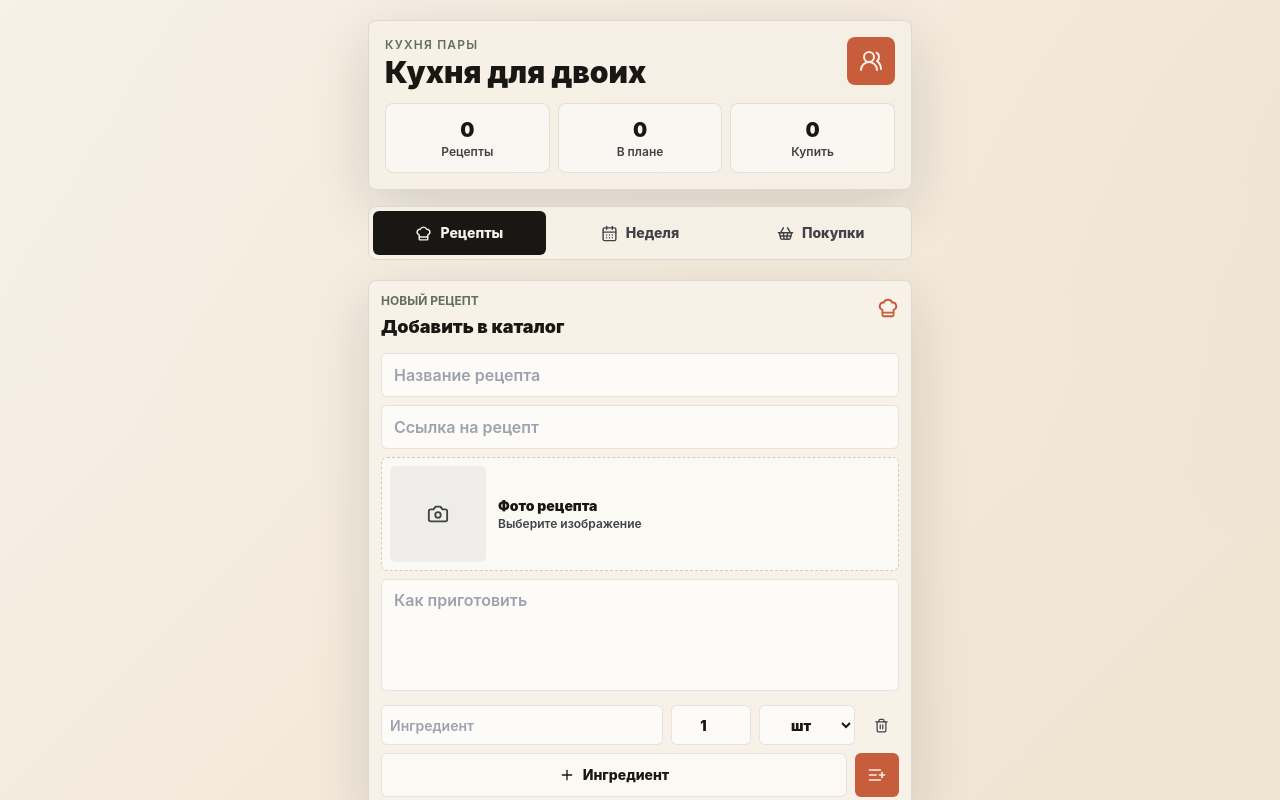
Test case: MiniApp › authenticates from Telegram launch params in the URL hash
Click the button named "Открыть семью" at [871, 61], box x1=847 y1=37 x2=895 y2=85
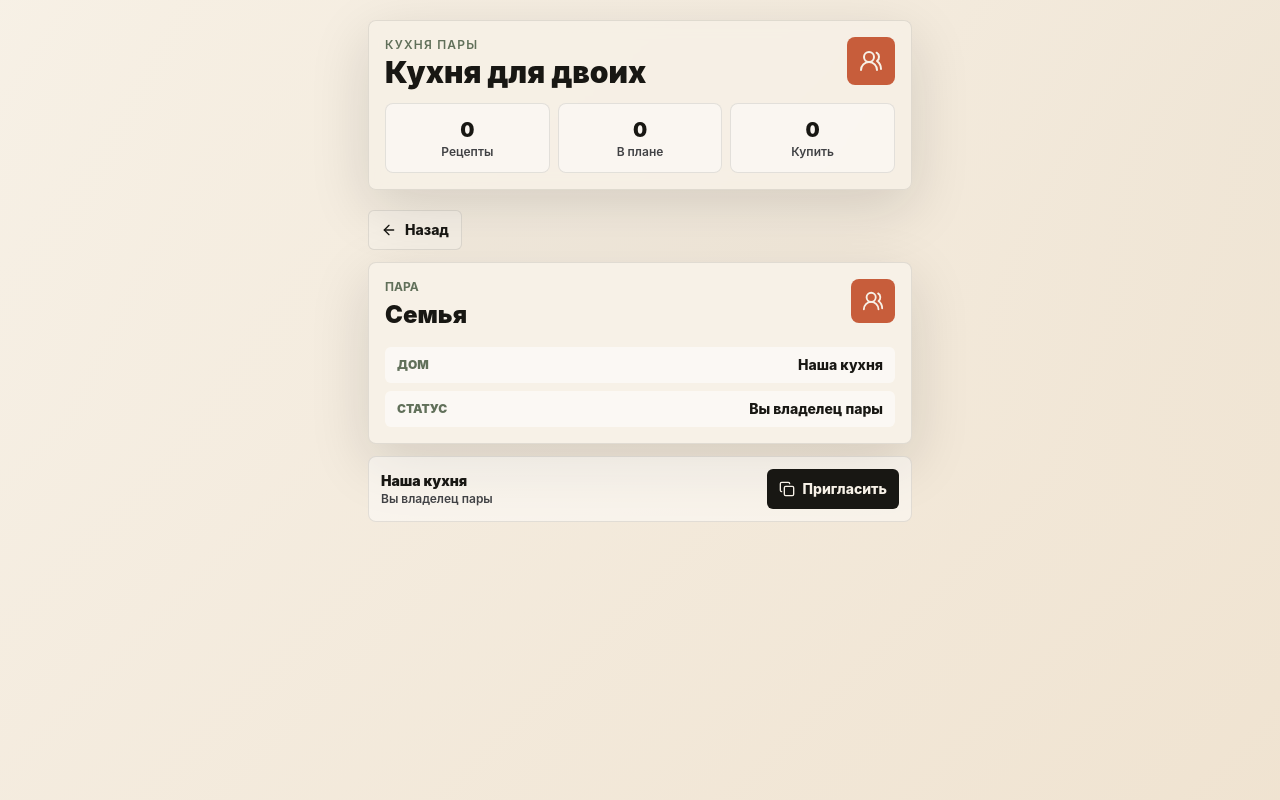
Check: the text "Наша кухня" is shown 2 times, box x1=798 y1=355 x2=883 y2=375; x1=381 y1=472 x2=467 y2=489
